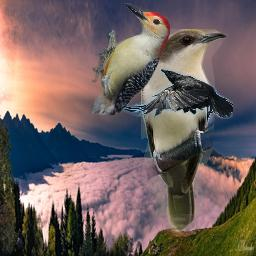Crow: (120, 68, 233, 123)
Cuckoo: (141, 29, 228, 234)
Woodpecker: (92, 3, 170, 115)
